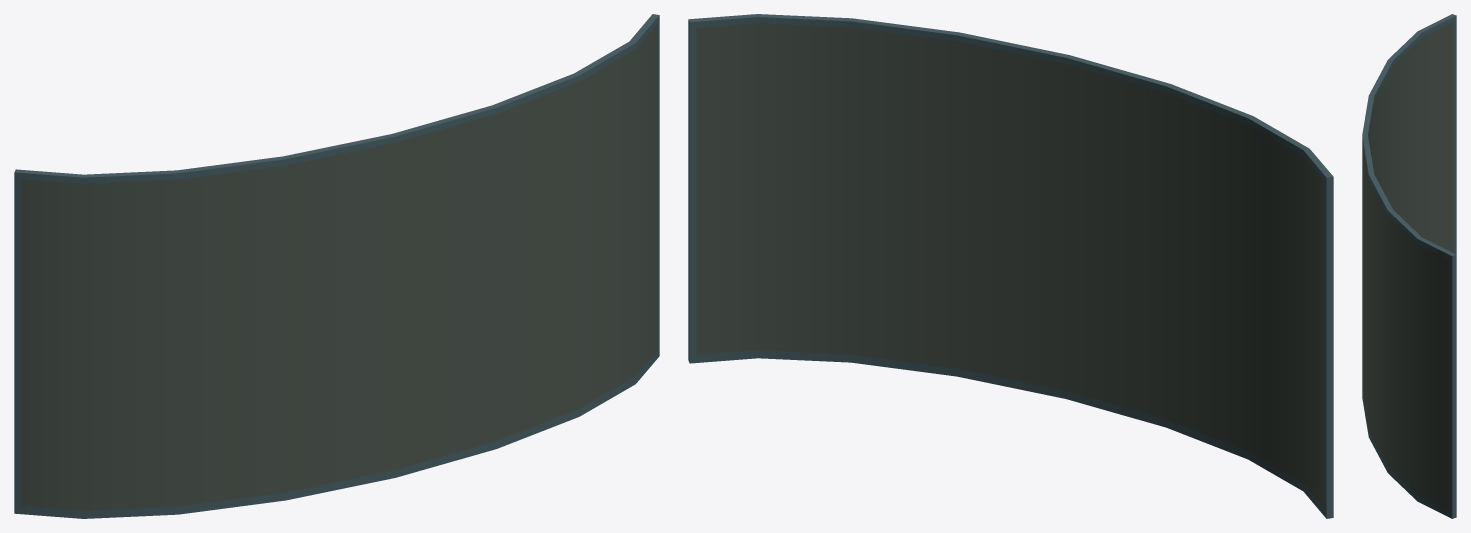
The model's file is Rect_Shield.fbx.
The picture shows the model from 3 angles, left to right: view 1: azimuth 30°, elevation 25°; view 2: azimuth 150°, elevation 25°; view 3: azimuth 270°, elevation 25°; orthographic projection. The views are drawn at different scales.
Parts seen in each view (by area): view 1: Rect_Shield; view 2: Rect_Shield; view 3: Rect_Shield.
Boxes of the visible parts, x1,y1,x2,y2 form: Rect_Shield: [14, 14, 659, 518]; Rect_Shield: [688, 14, 1333, 518]; Rect_Shield: [1362, 14, 1456, 518].
Size of the model in its own units: 4.56 by 2.31 by 0.7525.
